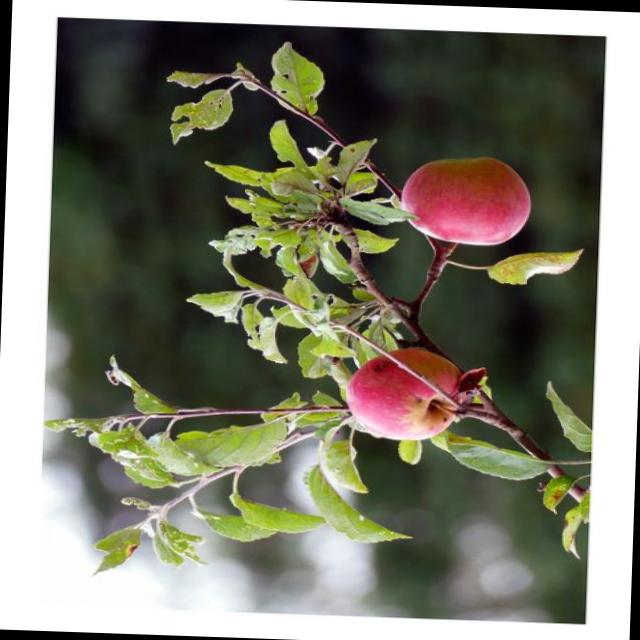Tao: (342, 344, 485, 446), (399, 154, 534, 248)
